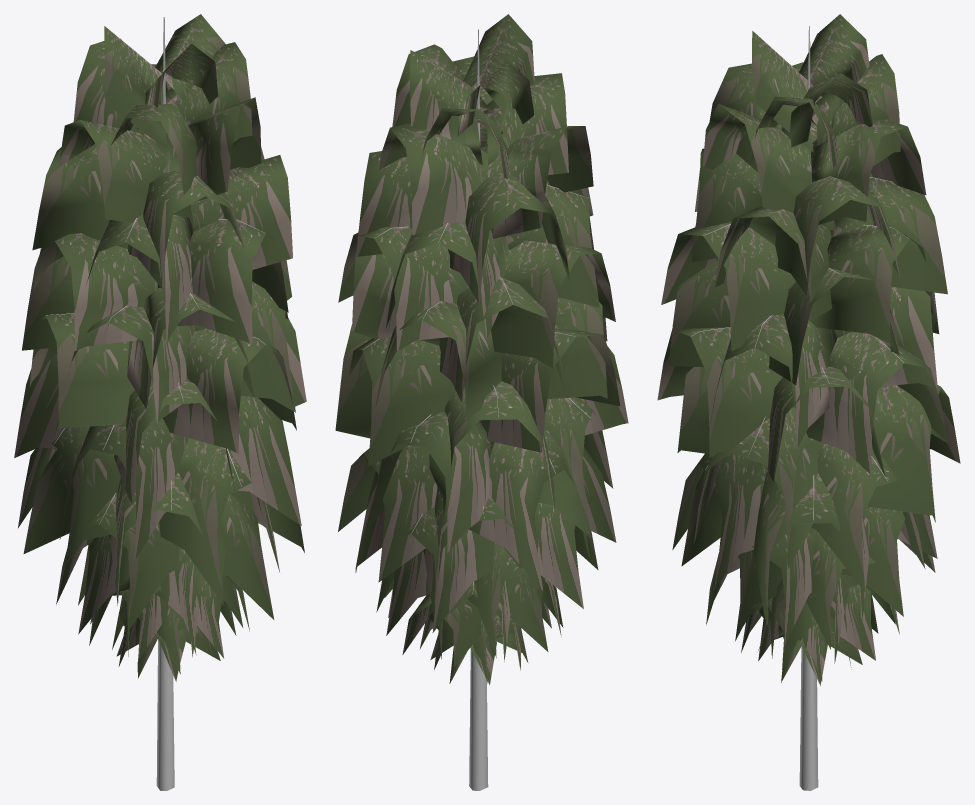
File: spruce_tree_a_lod1.fbx
3 views of the same model, side by side, from view 1: azimuth 30°, elevation 25°; view 2: azimuth 150°, elevation 25°; view 3: azimuth 270°, elevation 25° (orthographic).
Parts seen in each view (by area): view 1: LOD1; view 2: LOD1; view 3: LOD1.
Boxes of the visible parts, left/top/right/bottom form: LOD1: left=14, top=14, right=306, bottom=790; LOD1: left=335, top=14, right=628, bottom=790; LOD1: left=657, top=14, right=960, bottom=790.
Bounding box in the file's own units: 1415 × 4174 × 1508.
